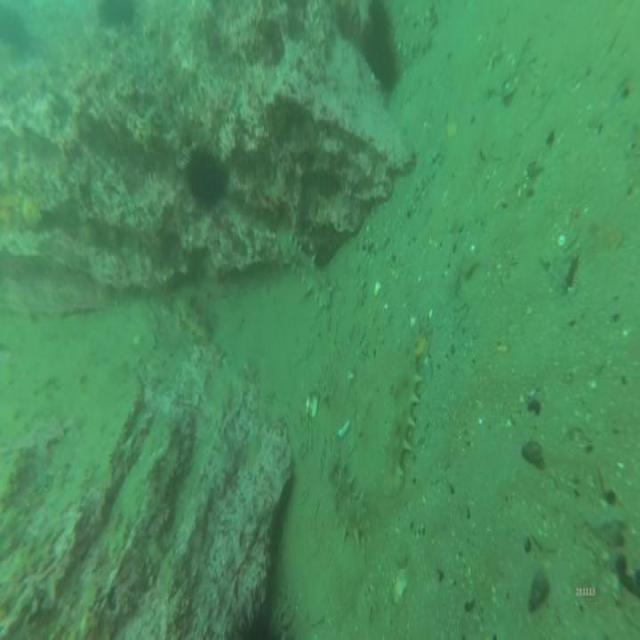echinus: (178, 140, 236, 217), (362, 0, 404, 93)
holothurian: (383, 332, 425, 496), (278, 232, 337, 313), (329, 457, 373, 553), (173, 284, 216, 348)
